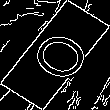O_SE: (17, 23, 93, 87)
